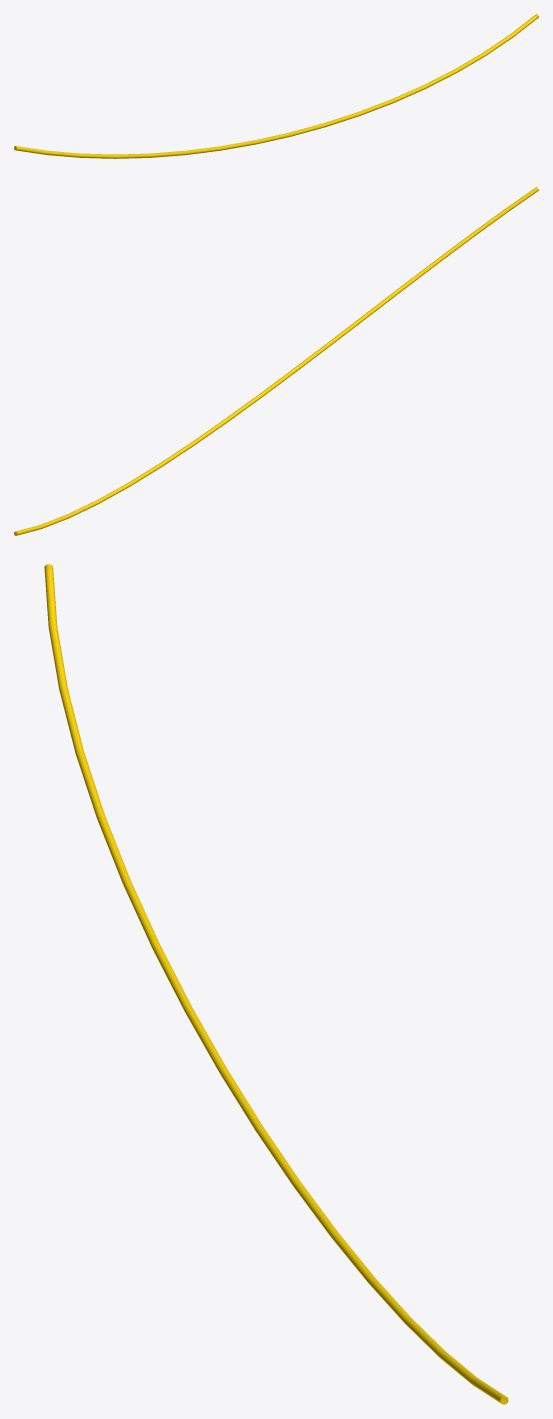
The model's file is Event_421127236_track_2.fbx.
3 renders of one model, top to bottom at view 1: azimuth 30°, elevation 25°; view 2: azimuth 210°, elevation 25°; view 3: azimuth 270°, elevation 25°, orthographic. The views are drawn at different scales.
Visible parts, largest first — view 1: Model; view 2: Model; view 3: Model.
Part boxes in pixels (box(x1,y1,x2,y2)): Model: box(14, 14, 538, 158); Model: box(14, 187, 538, 535); Model: box(44, 564, 508, 1404).
Size of the model in its own units: 6.73 by 1.23 by 2.12.
